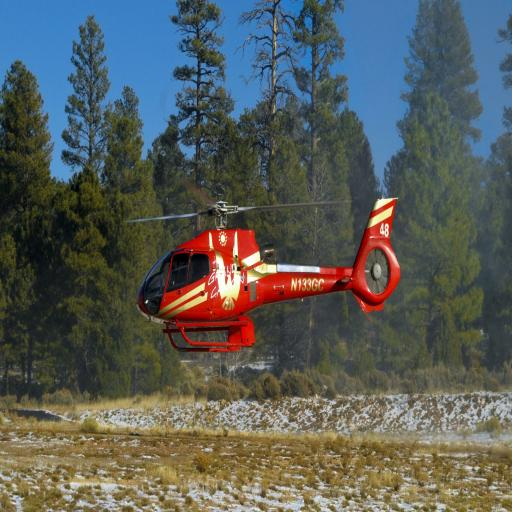helicopter: (129, 196, 402, 352)
